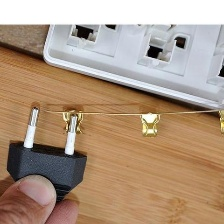three_eye_plug: (40, 23, 224, 117)
